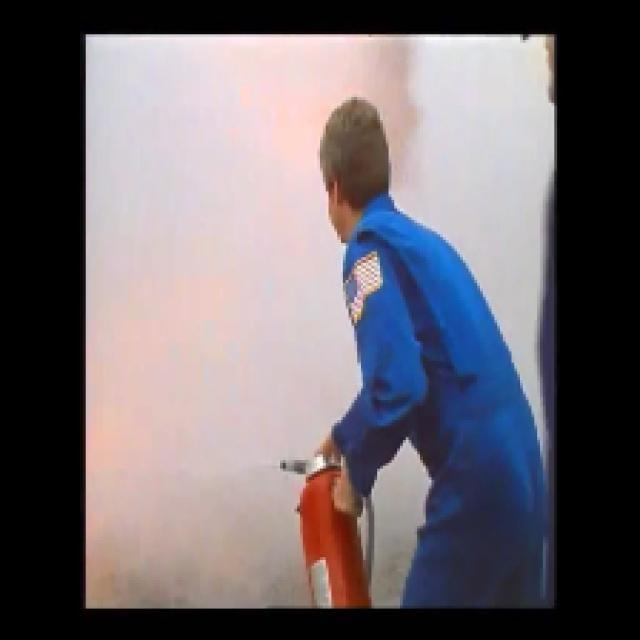Smoke: (80, 51, 243, 243)
